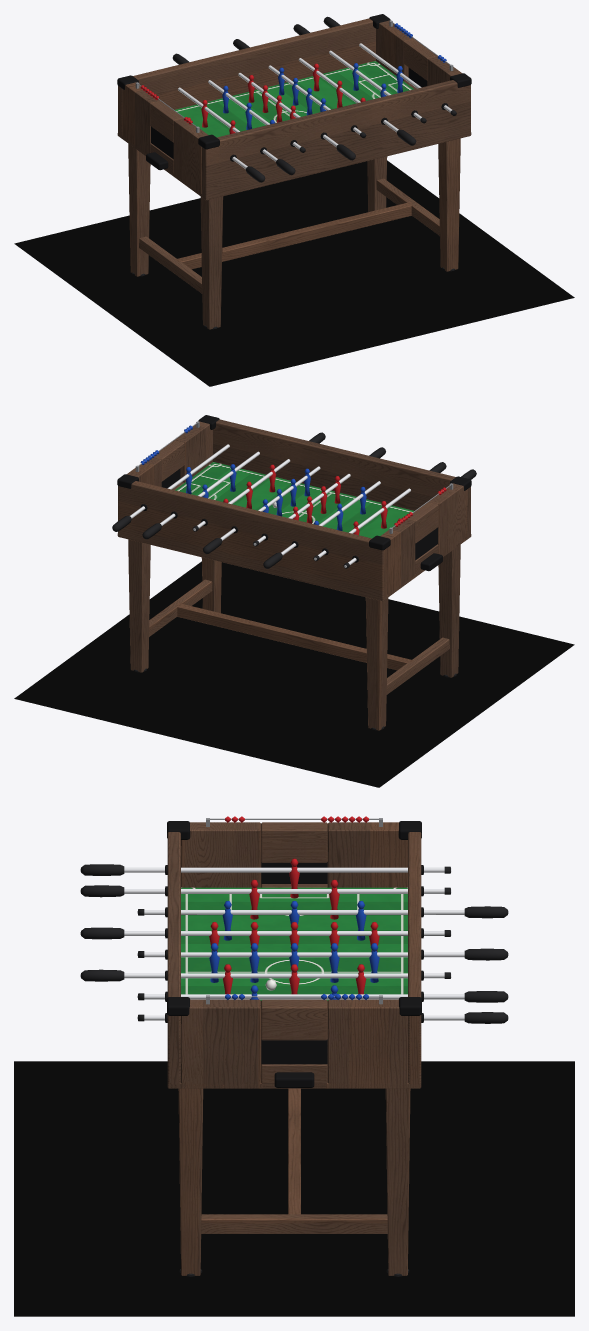
File: foosball_table.glb
3 views of the same model, one above another, from view 1: azimuth 30°, elevation 25°; view 2: azimuth 150°, elevation 25°; view 3: azimuth 270°, elevation 25° (orthographic). The views are drawn at different scales.
Parts seen in each view (by area): view 1: foosball_table_Shadow, foosball_table_LOD0; view 2: foosball_table_Shadow, foosball_table_LOD0; view 3: foosball_table_Shadow, foosball_table_LOD0.
Boxes of the visible parts, bbox=[...] form: foosball_table_Shadow: bbox=[14, 160, 574, 386]; foosball_table_LOD0: bbox=[117, 14, 471, 329]; foosball_table_Shadow: bbox=[14, 561, 574, 787]; foosball_table_LOD0: bbox=[112, 415, 476, 730]; foosball_table_Shadow: bbox=[14, 1061, 574, 1316]; foosball_table_LOD0: bbox=[80, 816, 508, 1276].
Size of what is drawn, in the model's own units: 1.81 by 0.9445 by 1.68.
3 materials, 3 textured.
